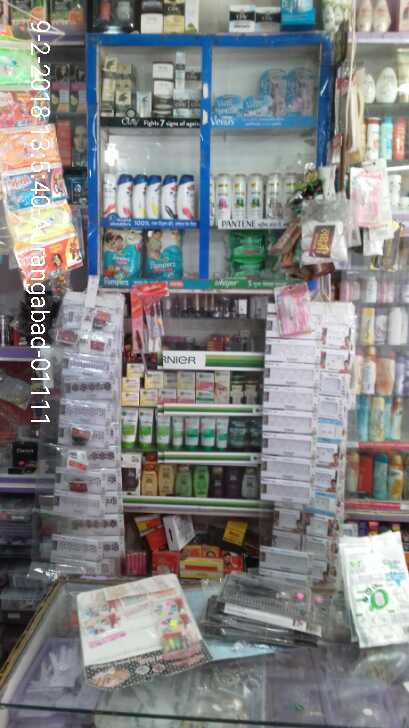venus: (286, 69, 315, 116), (265, 71, 286, 116), (216, 96, 244, 113), (244, 96, 265, 113)
